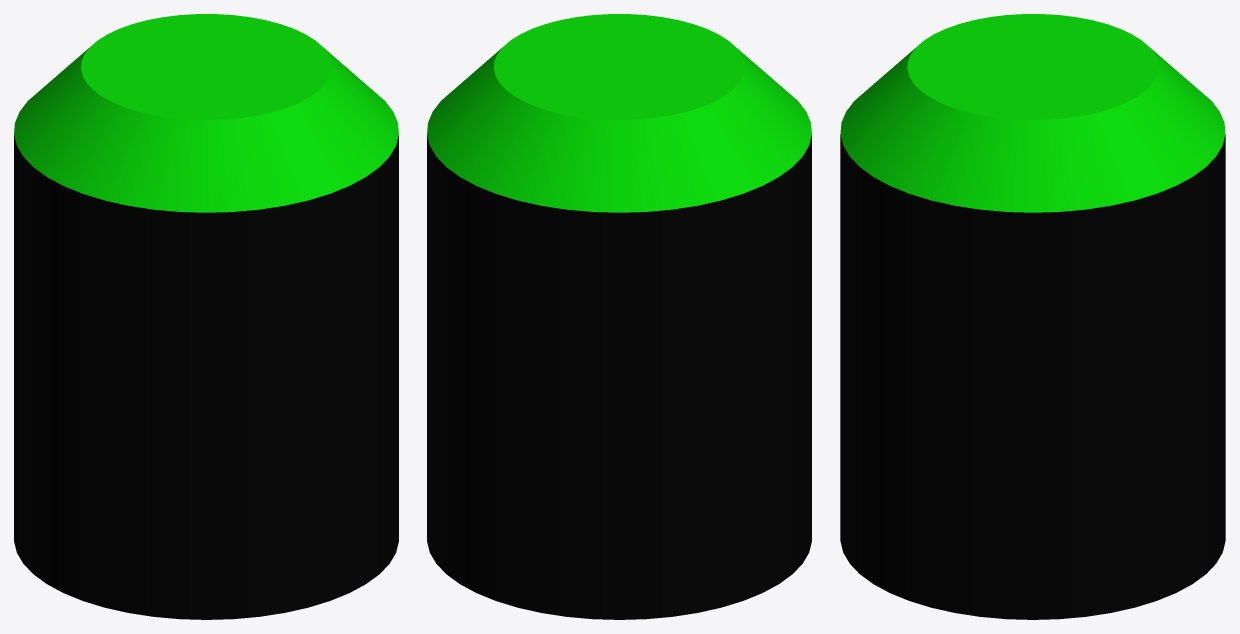
The model's file is bumper - canister B1.fbx.
The picture shows the model from 3 angles, left to right: view 1: azimuth 30°, elevation 25°; view 2: azimuth 150°, elevation 25°; view 3: azimuth 270°, elevation 25°; orthographic projection.
Parts seen in each view (by area): view 1: canister_B1; view 2: canister_B1; view 3: canister_B1.
Part boxes in pixels (box(x1,y1,x2,y2)): canister_B1: box(14, 14, 398, 619); canister_B1: box(427, 14, 811, 619); canister_B1: box(840, 14, 1225, 619).
Bounding box in the file's own units: 111 × 150 × 111.
